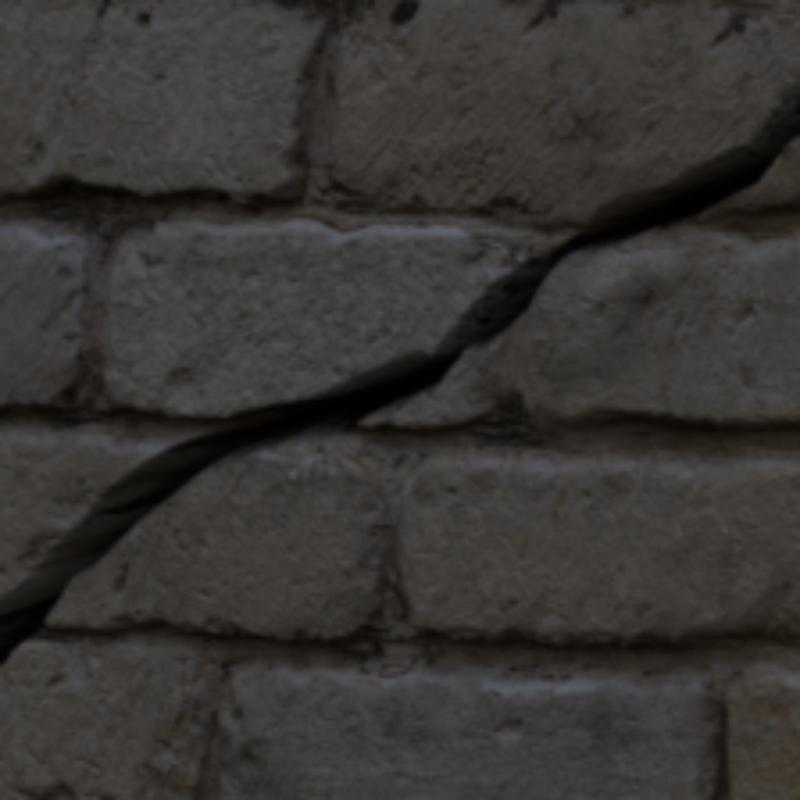pothole: (0, 89, 796, 661)
